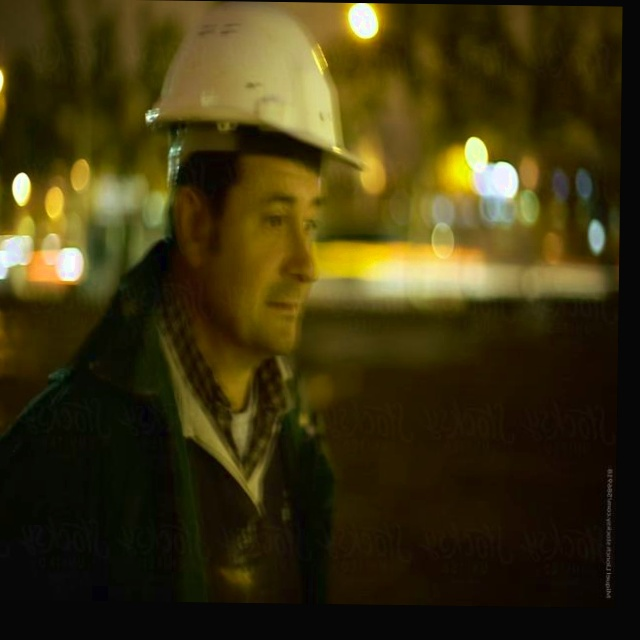Con_Casco: (143, 2, 370, 336)
